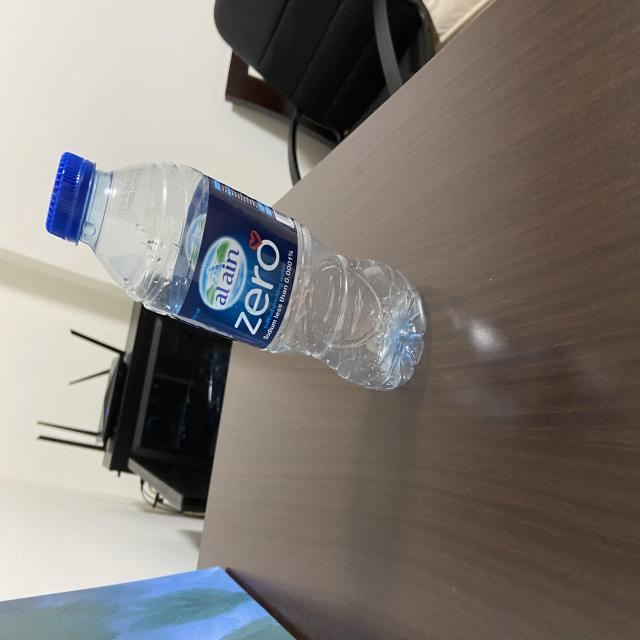plastic: (41, 145, 428, 395)
